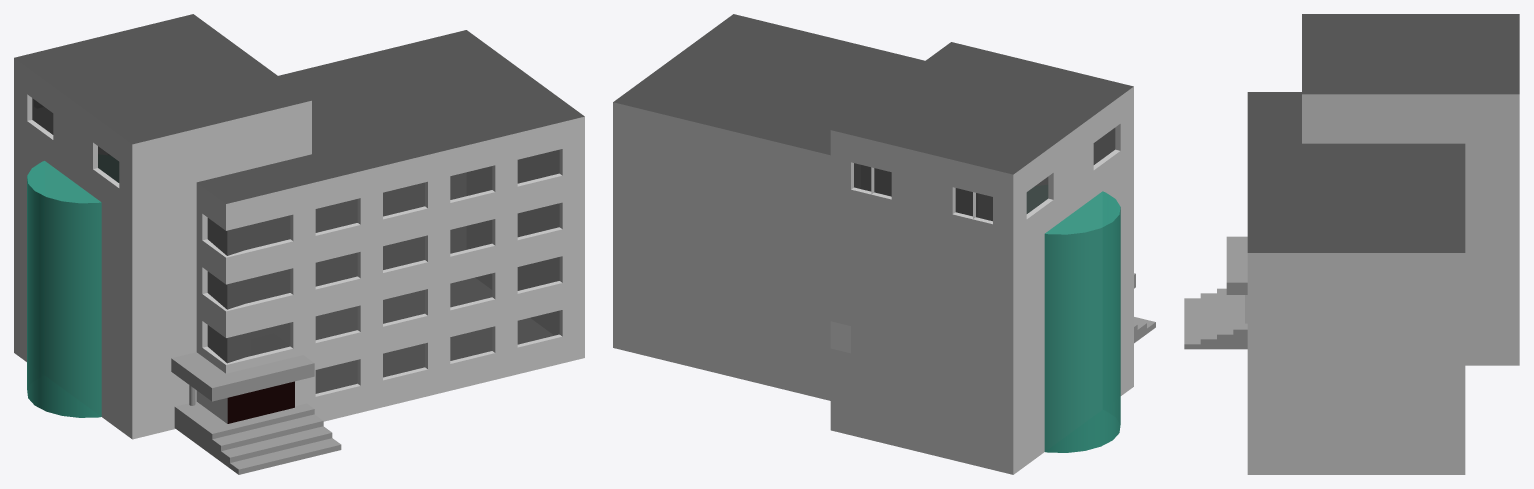
The model's file is bjfz3.fbx.
The picture shows the model from 3 angles, left to right: view 1: azimuth 30°, elevation 25°; view 2: azimuth 150°, elevation 25°; view 3: azimuth 270°, elevation 25°; orthographic projection. The views are drawn at different scales.
Visible parts, largest first — view 1: pCube1, pCube2, pCylinder1, pCube4, pCube3; view 2: pCube2, pCube1, pCylinder1; view 3: pCube1, pCube2, pCube4, pCube3.
Part boxes in pixels (bbox=[...]): pCube1: bbox=[196, 30, 584, 423]; pCube2: bbox=[14, 14, 311, 439]; pCylinder1: bbox=[27, 161, 101, 417]; pCube4: bbox=[174, 401, 341, 474]; pCube3: bbox=[171, 352, 314, 401]; pCube2: bbox=[830, 42, 1133, 474]; pCube1: bbox=[613, 14, 924, 400]; pCylinder1: bbox=[1044, 191, 1120, 452]; pCube1: bbox=[1245, 92, 1465, 474]; pCube2: bbox=[1302, 14, 1519, 365]; pCube4: bbox=[1184, 288, 1247, 349]; pCube3: bbox=[1226, 236, 1247, 294].
Size of the model in its own units: 18 by 11 by 12.32.
